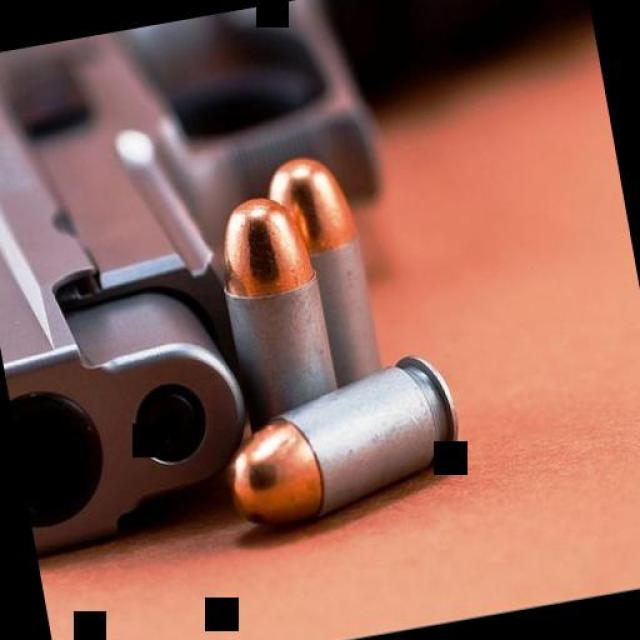gun: (0, 0, 441, 556)
